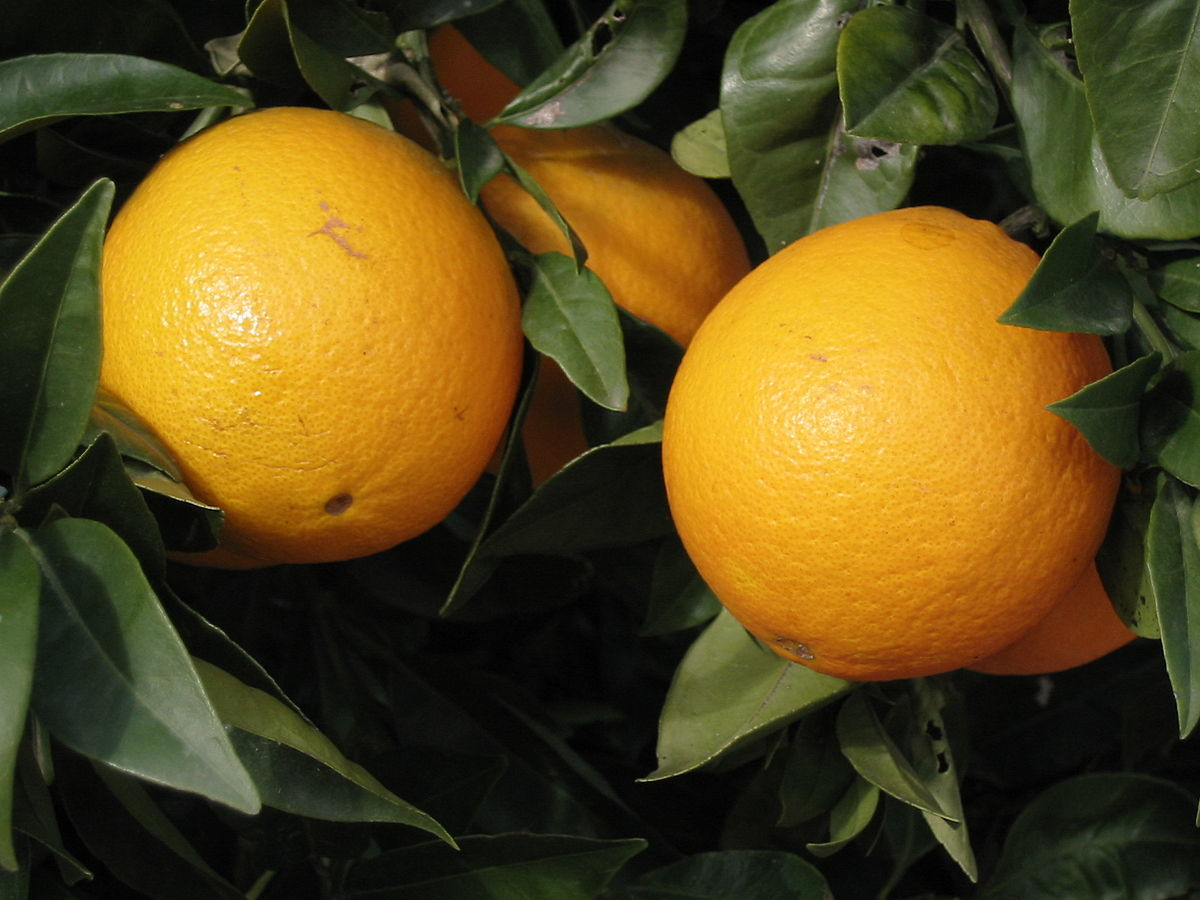orange: (652, 196, 1123, 710), (99, 96, 532, 592), (430, 108, 776, 525)
